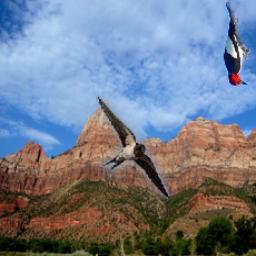Swallow: (96, 96, 169, 199)
Woodpecker: (217, 3, 250, 92)
